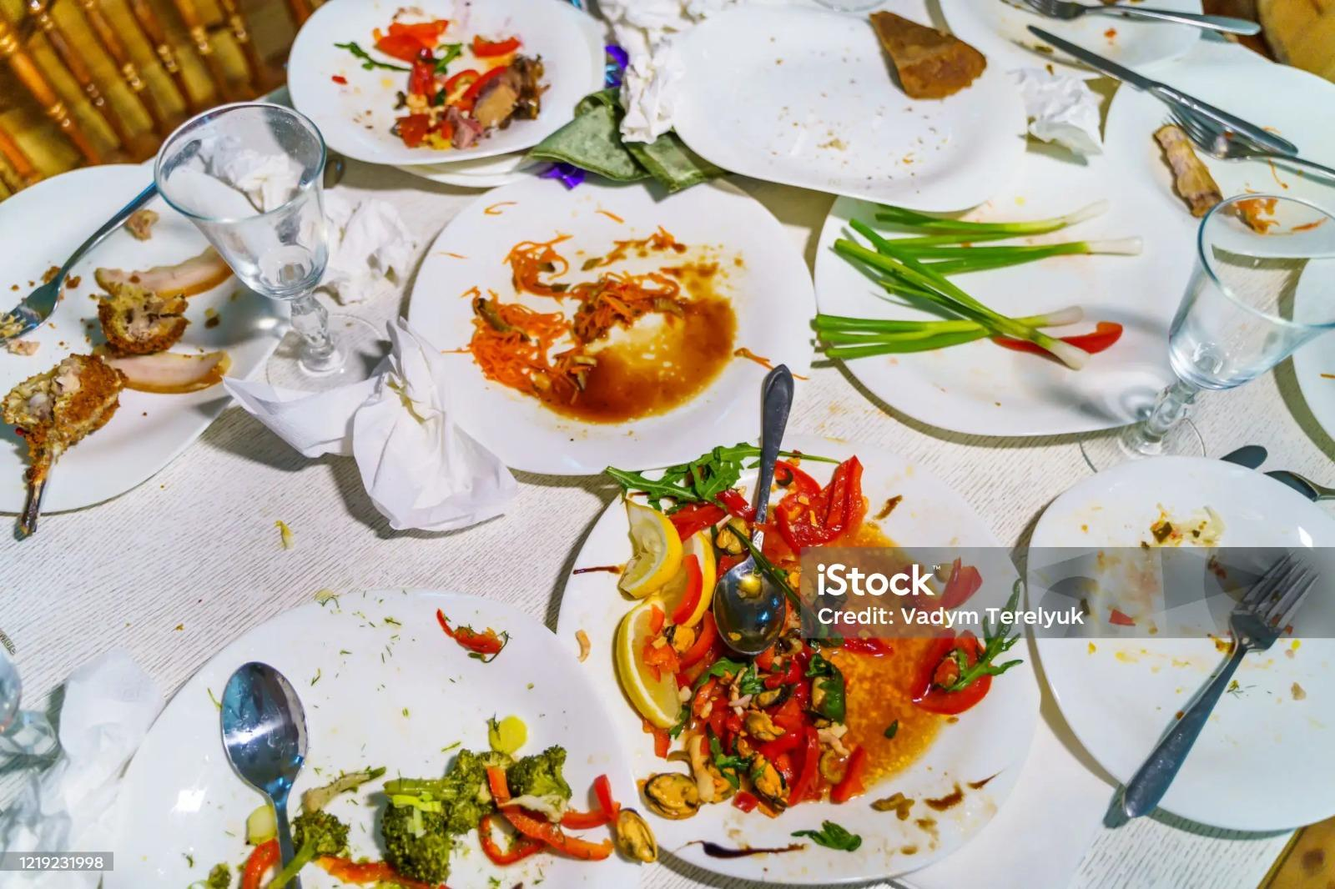Messy Table: (0, 10, 1335, 889)
